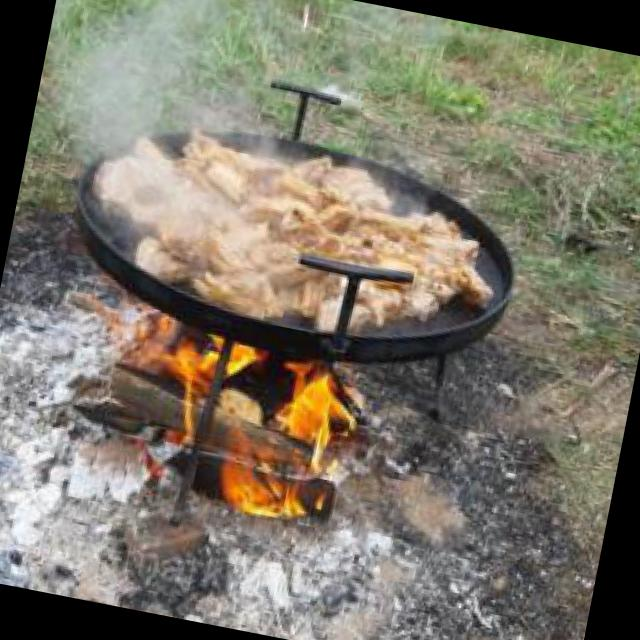fire: (132, 322, 364, 536)
smoke: (13, 0, 296, 264)
